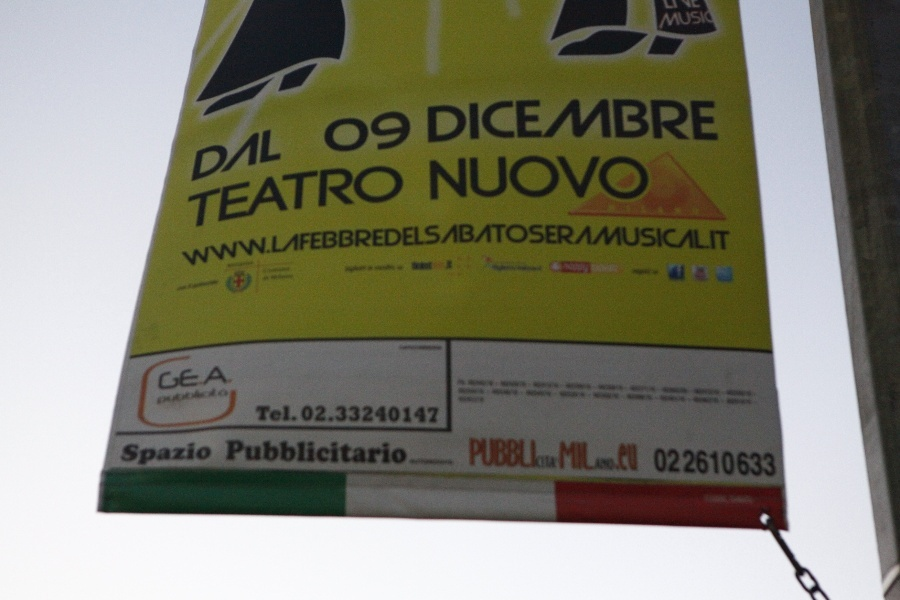text: (193, 158, 208, 228), (209, 158, 224, 228), (225, 158, 240, 228), (241, 158, 256, 228), (257, 158, 272, 228), (273, 158, 288, 228), (289, 158, 304, 228), (305, 158, 320, 228), (321, 158, 336, 228), (337, 158, 352, 228), (353, 158, 368, 228), (369, 158, 384, 228), (385, 158, 400, 228), (209, 126, 224, 181), (225, 126, 240, 181), (241, 126, 256, 181), (257, 126, 272, 181), (433, 95, 448, 144), (449, 95, 464, 144), (465, 95, 480, 144), (481, 95, 496, 144), (497, 95, 512, 144), (513, 95, 528, 144), (529, 95, 544, 144), (545, 95, 560, 144), (561, 95, 576, 144), (577, 95, 592, 144), (593, 95, 608, 144), (609, 95, 624, 144), (625, 95, 640, 144), (641, 95, 656, 144), (657, 95, 672, 144), (673, 95, 688, 144), (689, 95, 704, 144), (337, 109, 352, 157), (353, 109, 368, 157), (369, 109, 384, 157), (385, 109, 400, 157), (433, 155, 448, 201), (449, 155, 464, 201), (465, 155, 480, 201), (481, 155, 496, 201), (497, 155, 512, 201), (513, 155, 528, 201), (529, 155, 544, 201), (545, 155, 560, 201), (561, 155, 576, 201), (577, 155, 592, 201), (593, 155, 608, 201), (609, 155, 624, 201), (625, 155, 640, 201), (705, 95, 718, 144), (323, 109, 336, 157), (197, 126, 208, 181), (273, 126, 282, 181), (465, 379, 480, 412), (481, 379, 496, 412), (497, 379, 512, 412), (513, 379, 528, 412), (529, 379, 544, 412), (545, 379, 560, 412), (561, 379, 576, 412), (577, 379, 592, 412), (593, 379, 608, 412), (609, 379, 624, 412), (625, 379, 640, 412), (641, 379, 656, 412), (657, 379, 672, 412), (673, 379, 688, 412), (689, 379, 704, 412), (705, 379, 720, 412), (721, 379, 736, 412), (401, 109, 411, 157), (737, 379, 751, 412), (193, 237, 208, 266), (209, 237, 224, 266), (225, 237, 240, 266), (241, 237, 256, 266), (273, 223, 288, 252), (289, 223, 304, 252), (305, 223, 320, 252), (321, 223, 336, 252), (337, 223, 352, 252), (353, 223, 368, 252), (369, 223, 384, 252), (385, 223, 400, 252), (401, 223, 416, 252), (417, 223, 432, 252), (433, 223, 448, 252), (449, 223, 464, 252), (465, 223, 480, 252), (481, 223, 496, 252), (497, 223, 512, 252), (513, 223, 528, 252), (529, 223, 544, 252), (545, 223, 560, 252), (561, 223, 576, 252), (577, 223, 592, 252), (593, 223, 608, 252), (609, 223, 624, 252), (625, 223, 640, 252), (641, 223, 656, 252), (657, 223, 672, 252), (673, 223, 688, 252), (689, 223, 704, 252), (481, 439, 496, 468), (497, 439, 512, 468), (513, 439, 528, 468), (561, 441, 576, 470), (577, 441, 592, 470), (657, 448, 672, 477), (673, 448, 688, 477), (689, 448, 704, 477), (705, 448, 720, 477), (721, 448, 736, 477), (737, 448, 752, 477), (753, 448, 768, 477), (641, 155, 650, 201), (257, 237, 271, 266), (161, 365, 176, 391), (177, 365, 192, 391), (193, 365, 208, 391), (209, 365, 224, 391), (241, 440, 256, 463), (257, 440, 272, 463), (273, 440, 288, 463), (289, 440, 304, 463), (305, 440, 320, 463), (321, 440, 336, 463), (337, 440, 352, 463), (353, 440, 368, 463), (369, 440, 384, 463), (385, 440, 400, 463), (129, 442, 144, 464), (145, 442, 160, 464), (161, 442, 176, 464), (177, 442, 192, 464), (193, 442, 208, 464), (625, 443, 637, 470), (226, 440, 240, 463), (426, 95, 432, 144), (182, 237, 192, 266), (470, 439, 480, 468), (673, 10, 688, 29), (689, 10, 704, 29), (161, 387, 176, 404), (177, 387, 192, 404), (193, 387, 208, 404), (209, 387, 224, 404), (305, 405, 320, 422), (321, 405, 336, 422), (337, 405, 352, 422), (353, 405, 368, 422), (369, 405, 384, 422), (385, 405, 400, 422), (401, 405, 416, 422), (417, 405, 432, 422), (257, 406, 272, 421), (273, 406, 288, 421), (189, 158, 192, 228), (401, 158, 404, 228), (273, 267, 288, 281), (705, 10, 716, 29), (225, 365, 233, 391), (769, 448, 776, 477), (458, 379, 464, 412), (710, 231, 720, 250), (193, 279, 208, 291), (529, 439, 535, 468), (178, 279, 192, 291), (577, 262, 592, 273), (593, 262, 608, 273), (618, 443, 624, 470), (545, 455, 557, 468), (721, 231, 729, 250), (705, 223, 710, 252), (401, 440, 407, 463), (673, 1, 688, 10), (665, 10, 672, 29), (564, 262, 576, 273), (263, 267, 272, 281), (497, 265, 512, 273), (513, 265, 528, 273), (289, 406, 297, 421), (596, 459, 608, 469), (705, 495, 720, 503), (721, 495, 736, 503), (737, 495, 752, 503), (609, 262, 619, 273), (609, 459, 620, 469), (209, 279, 218, 291), (353, 264, 368, 271), (369, 264, 384, 271), (385, 264, 400, 271), (641, 269, 656, 276), (536, 455, 544, 468), (689, 1, 700, 10), (529, 265, 541, 273), (430, 155, 432, 201), (433, 405, 438, 422), (228, 261, 240, 268), (241, 261, 253, 268), (663, 1, 672, 10), (417, 459, 432, 464), (433, 459, 448, 464), (401, 345, 416, 350), (417, 345, 432, 350), (125, 442, 128, 464), (654, 448, 656, 477), (289, 267, 293, 281), (345, 264, 352, 271), (633, 269, 640, 276), (491, 265, 496, 273), (433, 345, 441, 350), (225, 387, 227, 404), (302, 405, 304, 422), (410, 459, 416, 464), (271, 223, 272, 252), (593, 441, 594, 470), (209, 442, 210, 464), (159, 387, 160, 404), (449, 459, 452, 464), (401, 264, 403, 271), (753, 495, 754, 503), (657, 269, 658, 276), (399, 345, 400, 350)
